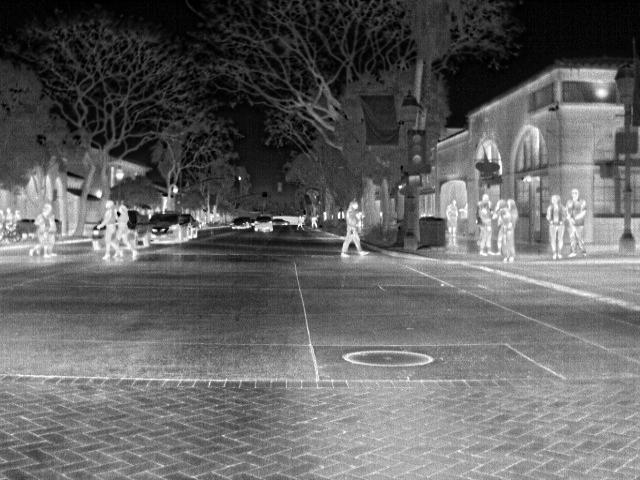car: (148, 213, 182, 246), (128, 211, 152, 247), (179, 214, 196, 239), (253, 214, 275, 233), (228, 218, 250, 230)
person: (334, 199, 367, 257), (113, 202, 139, 264), (28, 203, 56, 258), (96, 198, 120, 260), (544, 194, 566, 260), (565, 189, 587, 253), (499, 198, 518, 260), (477, 201, 496, 253), (444, 195, 461, 235), (2, 206, 17, 232), (293, 214, 307, 232), (307, 213, 320, 230)
